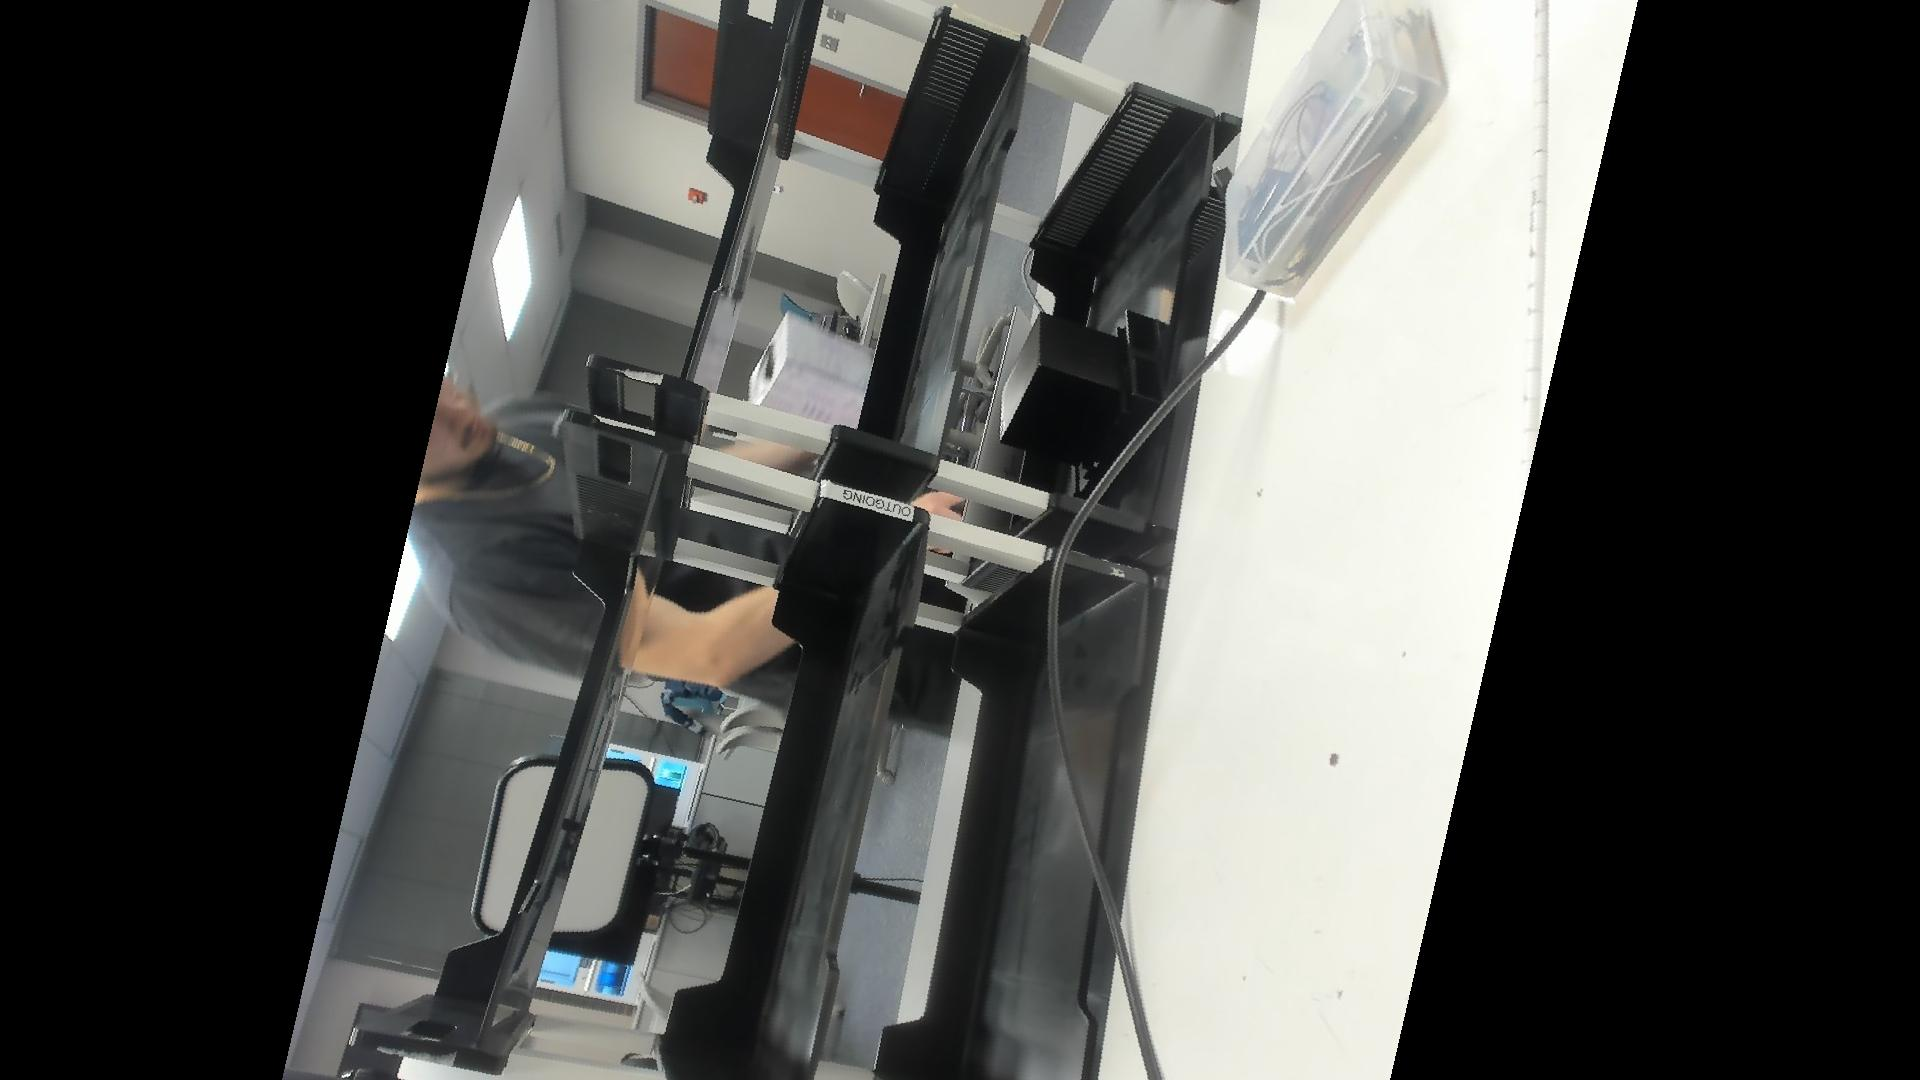black pallet: (986, 309, 1176, 488)
